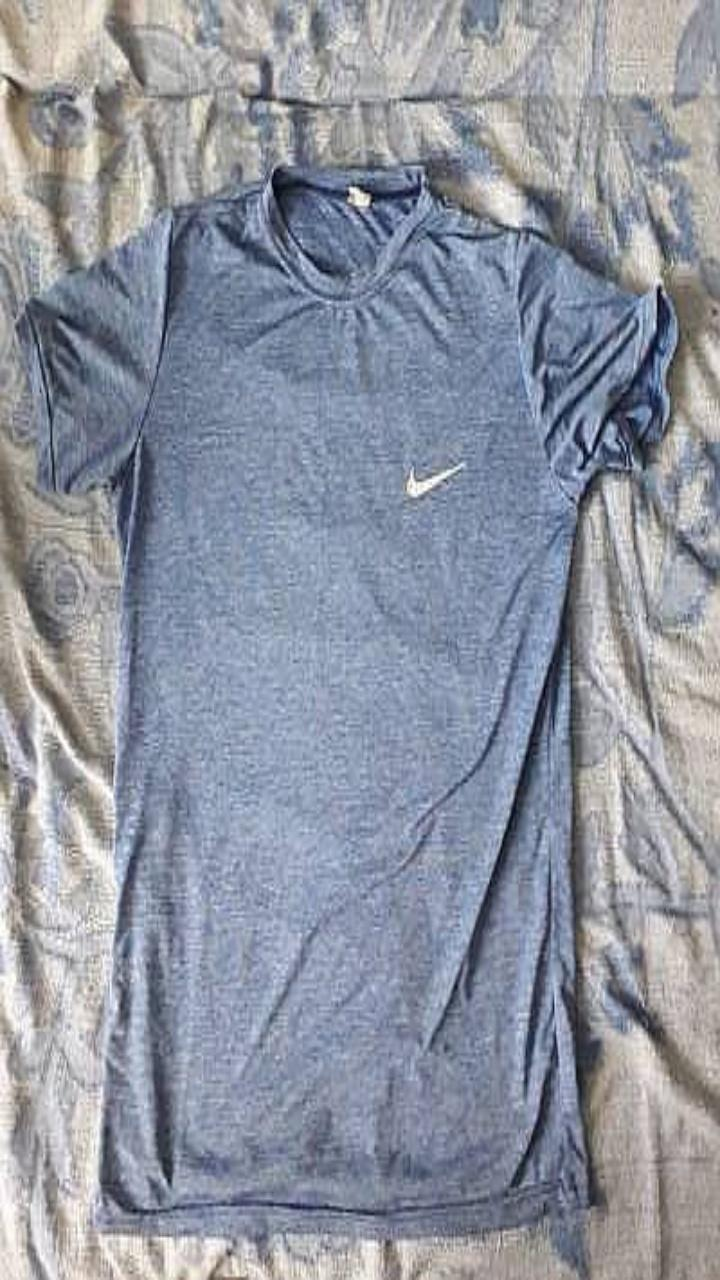T-Shirt: (16, 162, 677, 1237)
